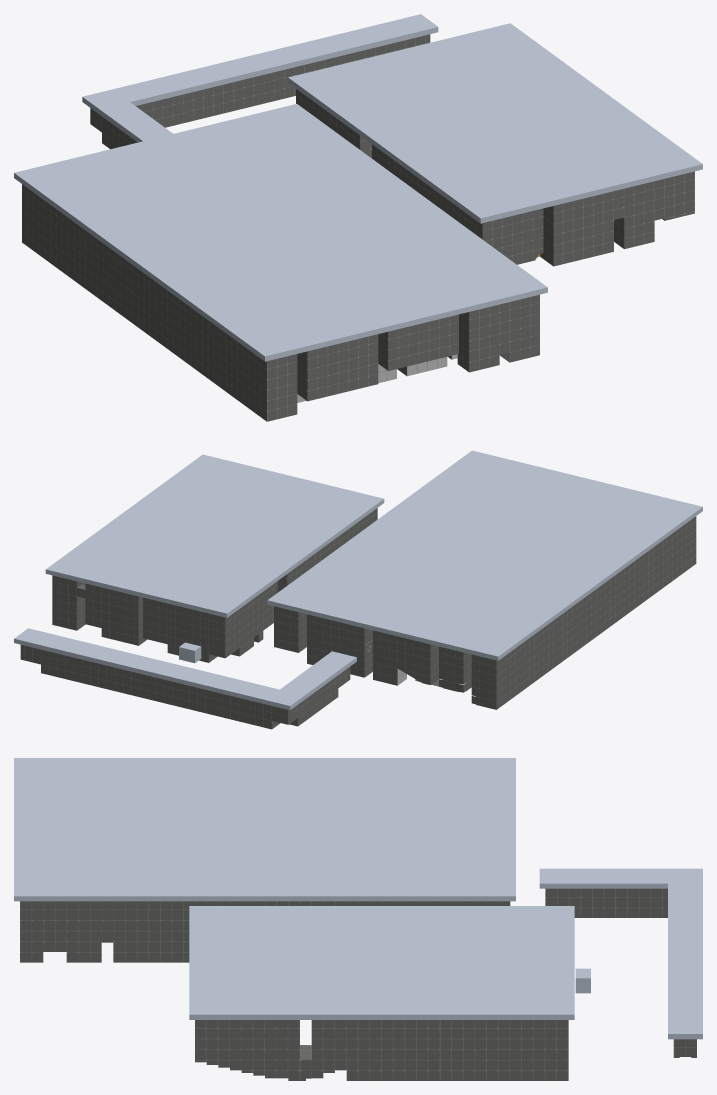
The model's file is bhop_training_final.glb.
The picture shows the model from 3 angles, top to bottom: view 1: azimuth 30°, elevation 25°; view 2: azimuth 150°, elevation 25°; view 3: azimuth 270°, elevation 25°; orthographic projection. The views are drawn at different scales.
Parts seen in each view (by area): view 1: bhop_training_final_sky, bhop_training_final_static; view 2: bhop_training_final_sky, bhop_training_final_static; view 3: bhop_training_final_sky, bhop_training_final_static.
Part boxes in pixels (box(x1,y1,x2,y2)): bhop_training_final_sky: box(14, 14, 702, 361); bhop_training_final_static: box(22, 34, 694, 421); bhop_training_final_sky: box(14, 450, 702, 710); bhop_training_final_static: box(20, 508, 696, 729); bhop_training_final_sky: box(14, 758, 702, 1039); bhop_training_final_static: box(20, 888, 696, 1080).
Size of the model in its own units: 169 by 21.54 by 192.
Materials: 12 (11 with a texture image).
